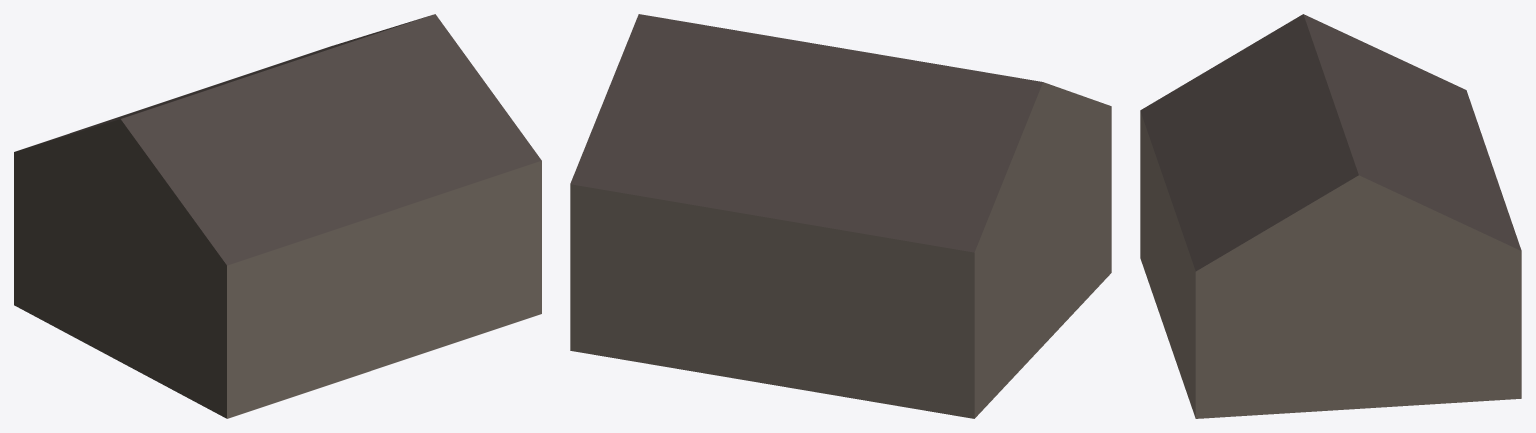
The picture shows the model from 3 angles, left to right: view 1: azimuth 30°, elevation 25°; view 2: azimuth 150°, elevation 25°; view 3: azimuth 270°, elevation 25°; orthographic projection. The views are drawn at different scales.
Visible parts, largest first — view 1: HP-w1376988713; view 2: HP-w1376988713; view 3: HP-w1376988713.
Boxes of the visible parts, x1=… form: HP-w1376988713: x1=14, y1=14, x2=541, y2=418; HP-w1376988713: x1=570, y1=14, x2=1111, y2=418; HP-w1376988713: x1=1140, y1=14, x2=1521, y2=418.
Size of the model in its own units: 15.85 by 9.51 by 14.08.
